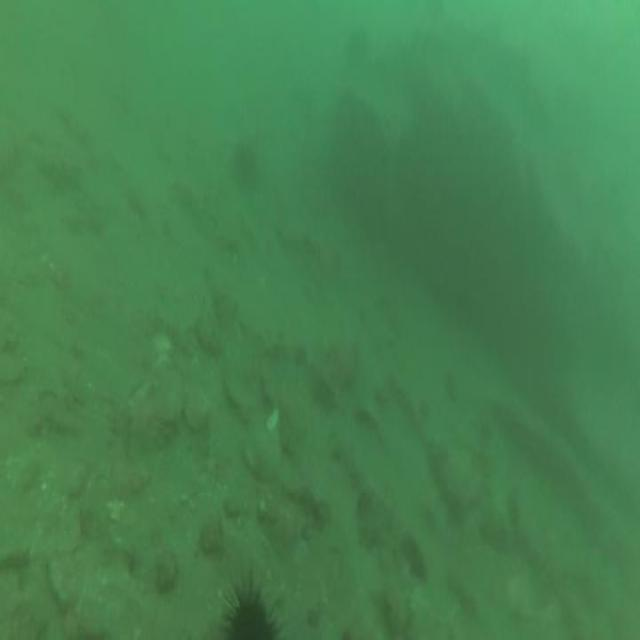echinus: (217, 573, 283, 640), (228, 134, 263, 202), (340, 19, 370, 63)
